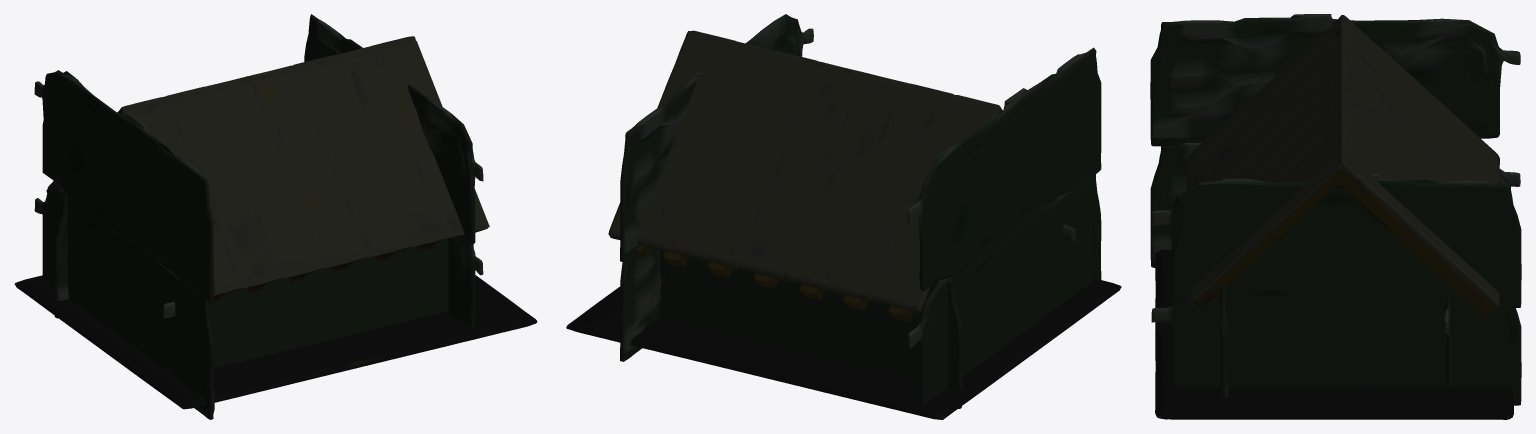
The model's file is room.glb.
3 views of the same model, side by side, from view 1: azimuth 30°, elevation 25°; view 2: azimuth 150°, elevation 25°; view 3: azimuth 270°, elevation 25° (orthographic). The views are drawn at different scales.
Parts seen in each view (by area): view 1: room; view 2: room; view 3: room.
Boxes of the visible parts, x1,y1,x2,y2 form: room: (14, 14, 537, 419); room: (566, 14, 1121, 419); room: (1150, 14, 1521, 419).
Bounding box in the file's own units: 3.07 × 2.04 × 2.67.
